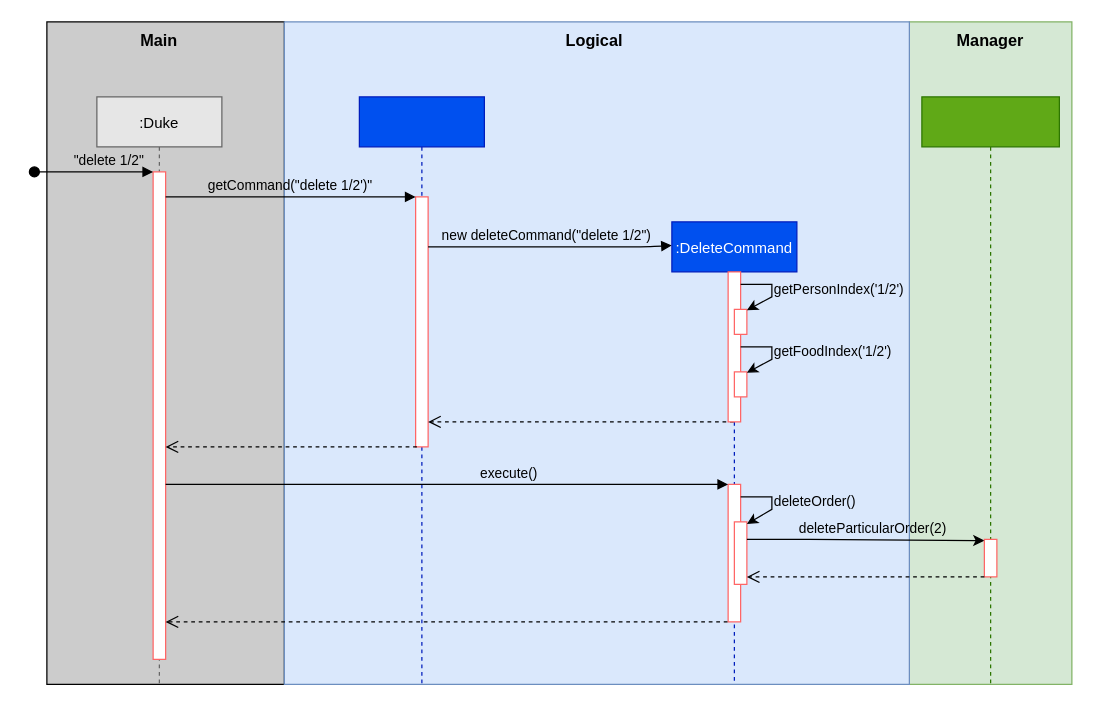
This 1094x706 diagram has some shape labels left out. Here are the shapes that lost their labels. From the top down, the box of each, then its label:
(358, 96, 484, 684): :Parser
(921, 96, 1059, 684): :Manager
